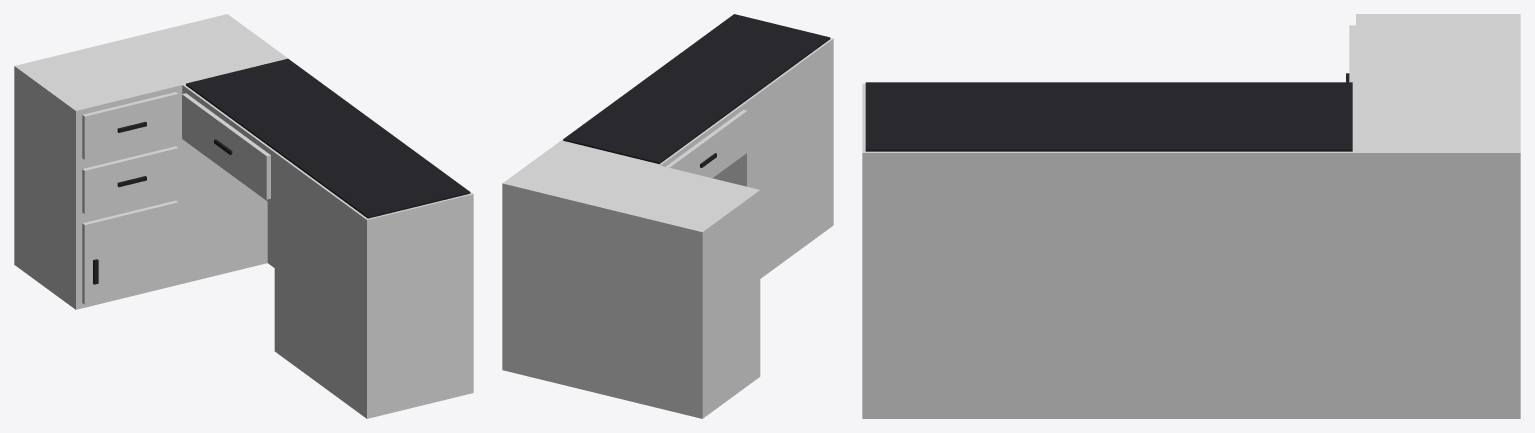
File: Minimalist_Cashier.fbx
The picture shows the model from 3 angles, left to right: view 1: azimuth 30°, elevation 25°; view 2: azimuth 150°, elevation 25°; view 3: azimuth 270°, elevation 25°; orthographic projection. The views are drawn at different scales.
Visible parts, largest first — view 1: Minimalist_Cashier_1; view 2: Minimalist_Cashier_1; view 3: Minimalist_Cashier_1.
Part boxes in pixels (<box>): Minimalist_Cashier_1: <box>14,14,473,418</box>; Minimalist_Cashier_1: <box>502,14,833,418</box>; Minimalist_Cashier_1: <box>862,14,1520,418</box>.
Bounding box in the file's own units: 100 × 90 × 200.
